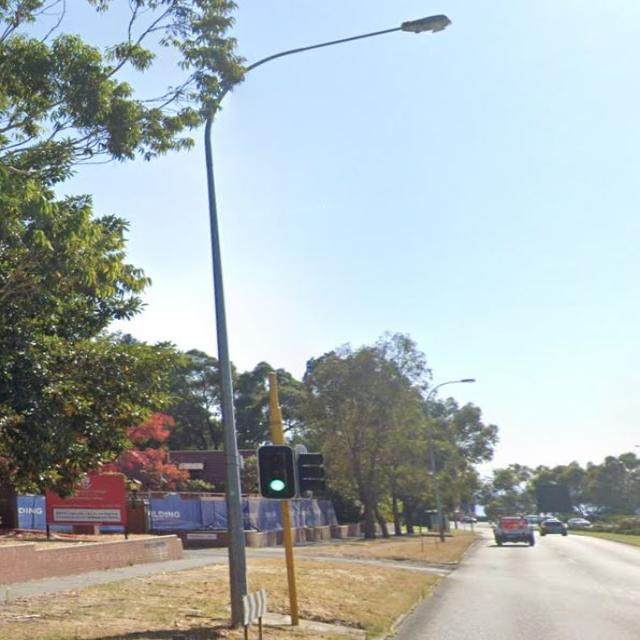steel-pole: (204, 132, 249, 628), (264, 370, 299, 626), (424, 404, 446, 544)
streetlight: (204, 13, 452, 135), (258, 444, 296, 500), (426, 378, 477, 409)
